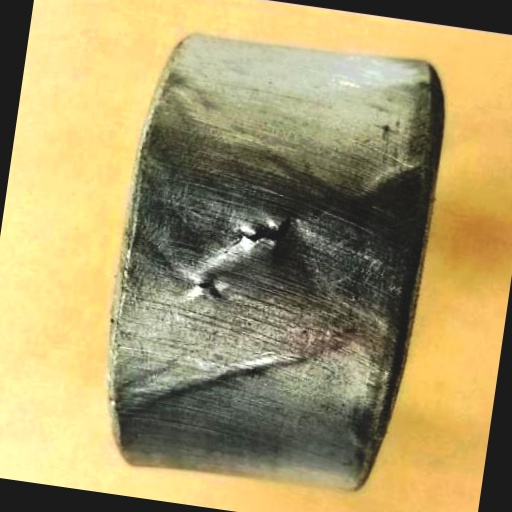crack: (236, 205, 303, 256), (192, 276, 216, 294)
